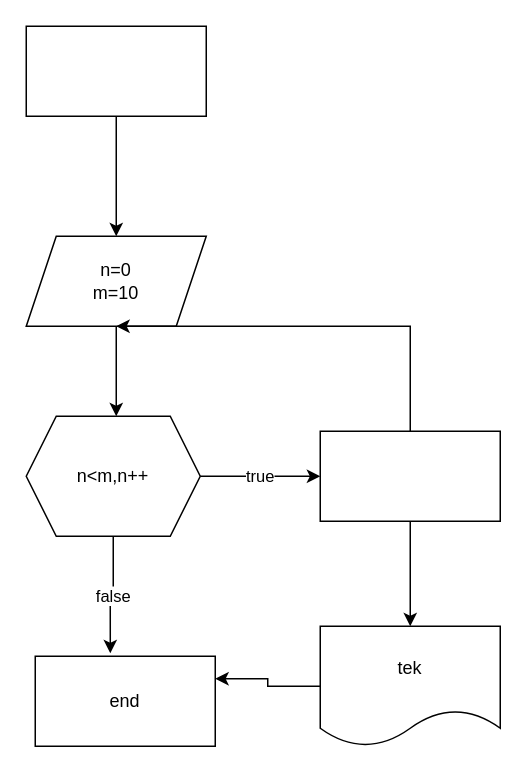
The diagram is 527 pixels wide and 773 high, and some of its shapes have lost their labels. Each missing label, with the centre of its shape:
"n % 2 == 1" belongs at point (409, 475).
"start" belongs at point (115, 70).
